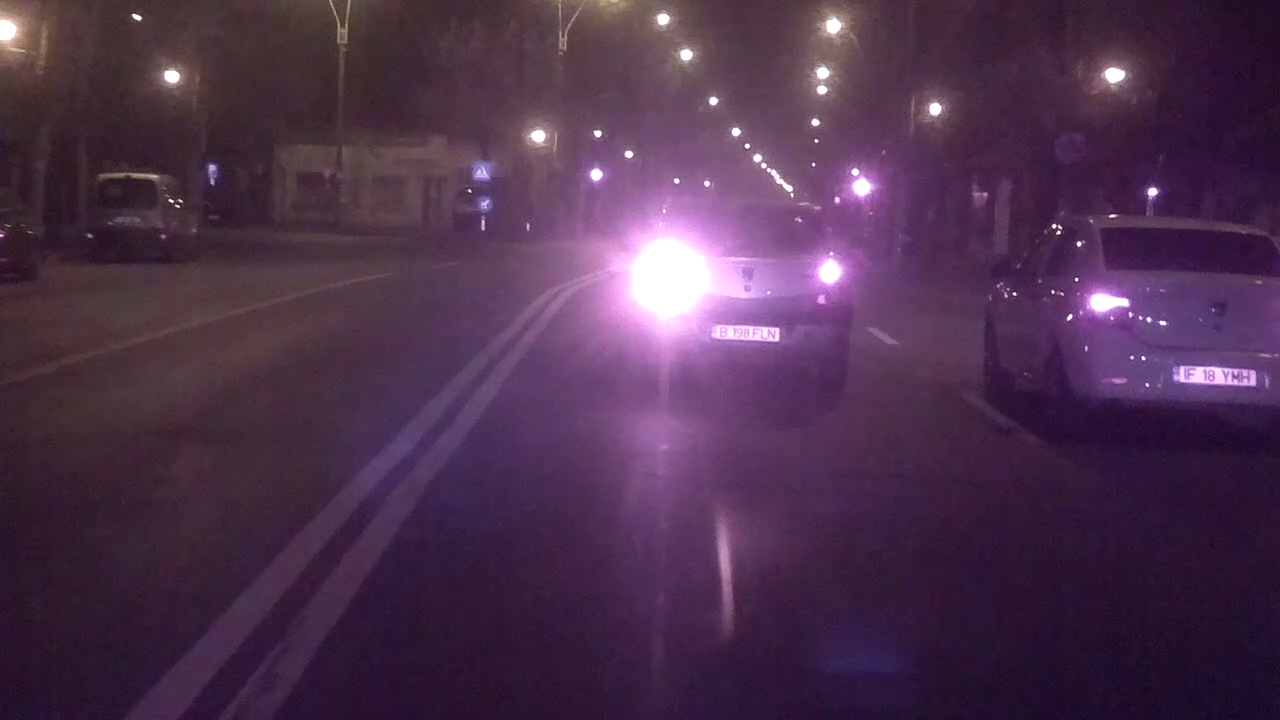license-plate: (1166, 360, 1263, 390), (707, 320, 785, 345)
